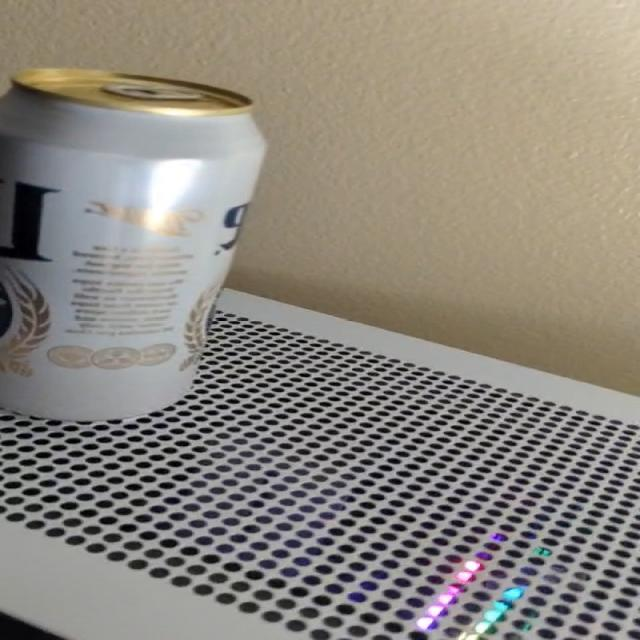metal: (2, 70, 264, 420)
